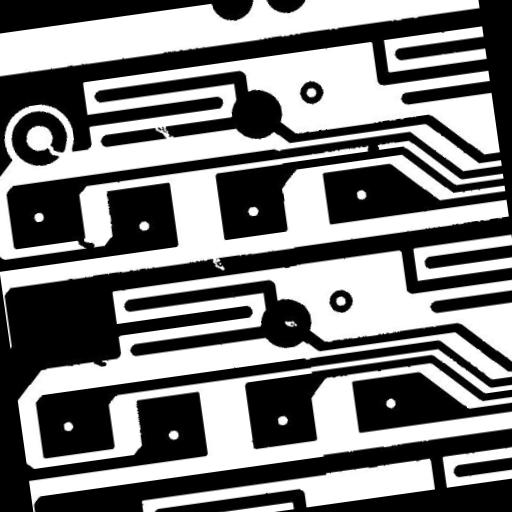mousebite: (202, 246, 233, 280)
open: (33, 132, 73, 167), (146, 114, 184, 150)
pin-hole: (276, 311, 306, 336)
short: (66, 218, 104, 258), (358, 133, 388, 160)
spur: (84, 348, 114, 376)
